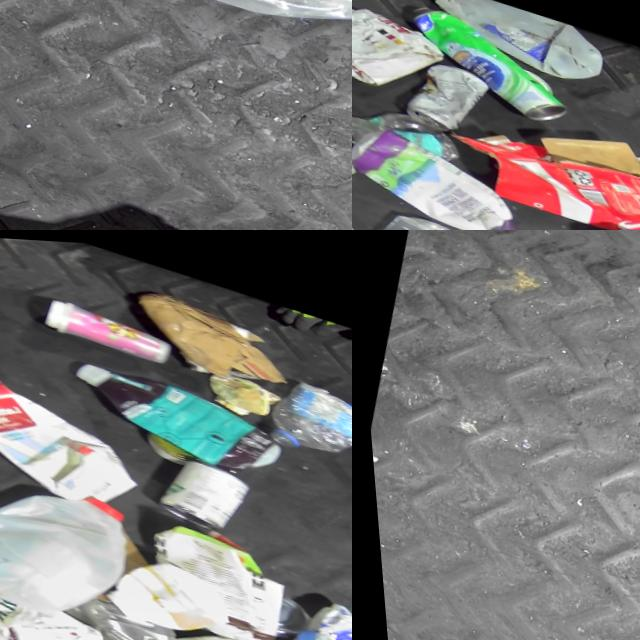can: (391, 0, 583, 124), (395, 46, 497, 139), (148, 444, 252, 533), (265, 585, 310, 637)
milk_jug: (0, 455, 138, 630), (415, 0, 612, 85), (0, 564, 108, 640), (256, 578, 352, 640)
non_white_jug: (62, 349, 289, 475), (0, 352, 153, 514), (352, 114, 550, 230), (491, 188, 640, 230)
plastic_bottle: (259, 366, 352, 470)
